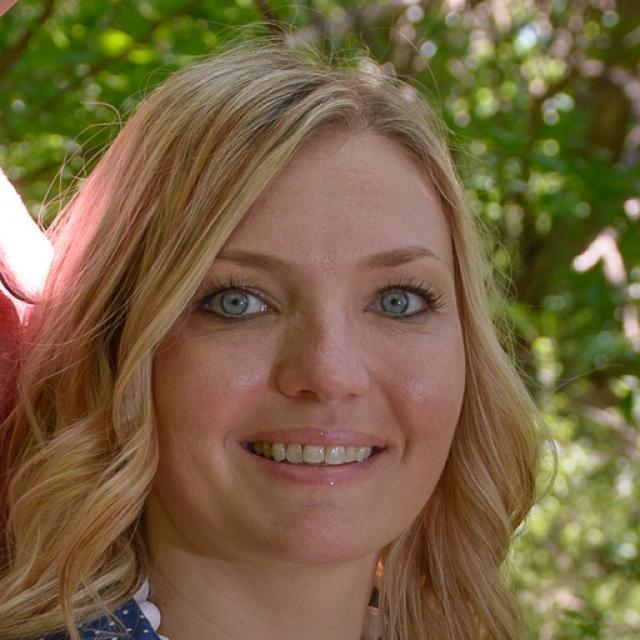happy: (156, 130, 470, 561)
